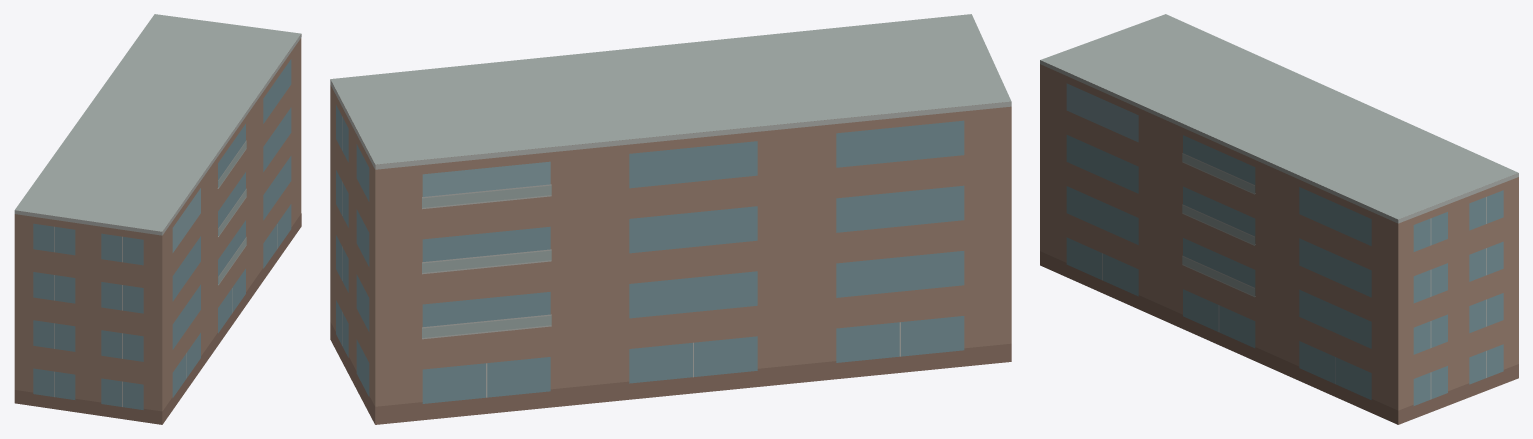
The model's file is survey-upis-32621840.glb.
The picture shows the model from 3 angles, left to right: view 1: azimuth 30°, elevation 25°; view 2: azimuth 150°, elevation 25°; view 3: azimuth 270°, elevation 25°; orthographic projection. The views are drawn at different scales.
Visible parts, largest first — view 1: survey-upis-32621840.tmp; view 2: survey-upis-32621840.tmp; view 3: survey-upis-32621840.tmp.
Boxes of the visible parts, x1=… form: survey-upis-32621840.tmp: x1=14, y1=14, x2=301, y2=424; survey-upis-32621840.tmp: x1=330, y1=14, x2=1011, y2=424; survey-upis-32621840.tmp: x1=1040, y1=14, x2=1518, y2=424.
Bounding box in the file's own units: 26.63 × 12.4 × 26.21.
